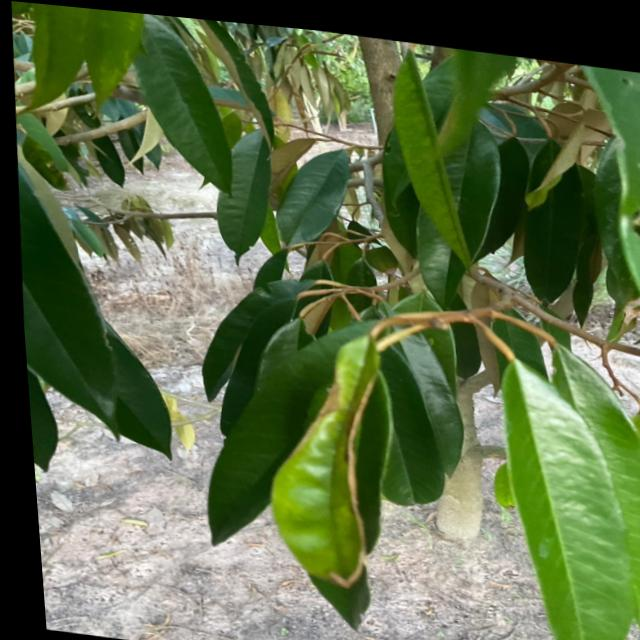Leaf Blight: (264, 325, 377, 582)
